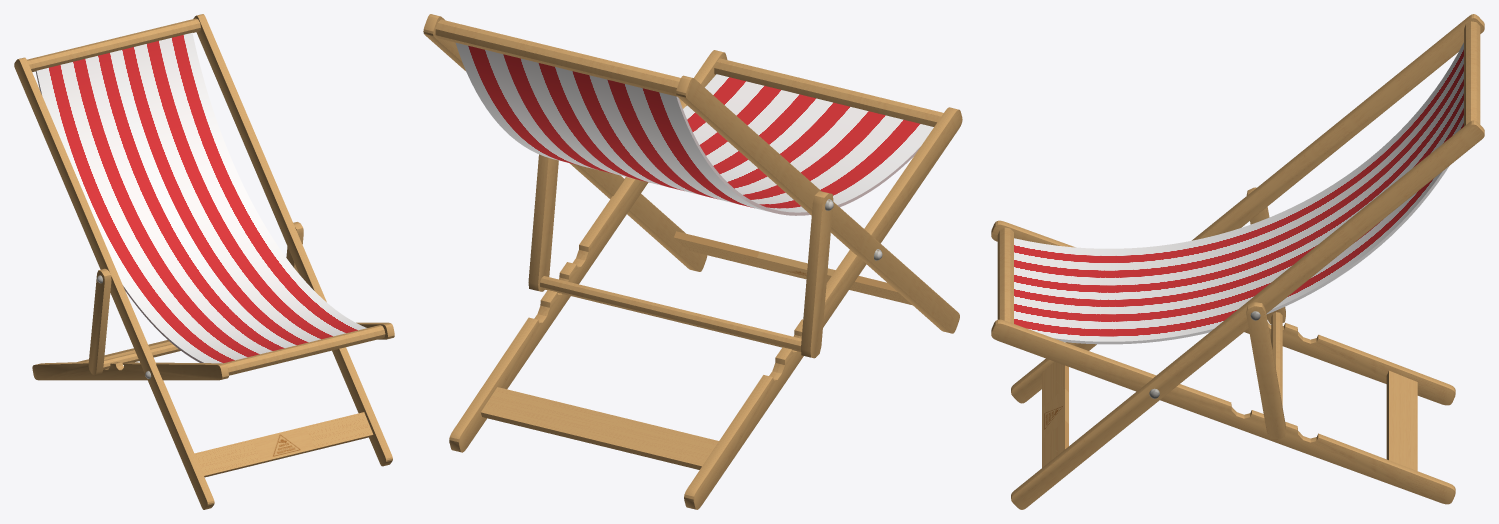
Rendered from Beach_Lounger.fbx.
3 views of the same model, side by side, from view 1: azimuth 30°, elevation 25°; view 2: azimuth 150°, elevation 25°; view 3: azimuth 270°, elevation 25° (orthographic). The views are drawn at different scales.
Visible parts, largest first — view 1: Fabric, Wood_Frame; view 2: Wood_Frame, Fabric; view 3: Wood_Frame, Fabric.
Boxes of the visible parts, left/top/right/bottom form: Fabric: left=35, top=32, right=366, bottom=363; Wood_Frame: left=14, top=14, right=394, bottom=509; Wood_Frame: left=423, top=14, right=962, bottom=509; Fabric: left=455, top=43, right=933, bottom=215; Wood_Frame: left=991, top=14, right=1484, bottom=509; Fabric: left=1014, top=42, right=1463, bottom=344.
Bounding box in the file's own units: 90.75 × 133 × 154.
4 materials, 4 textured.
